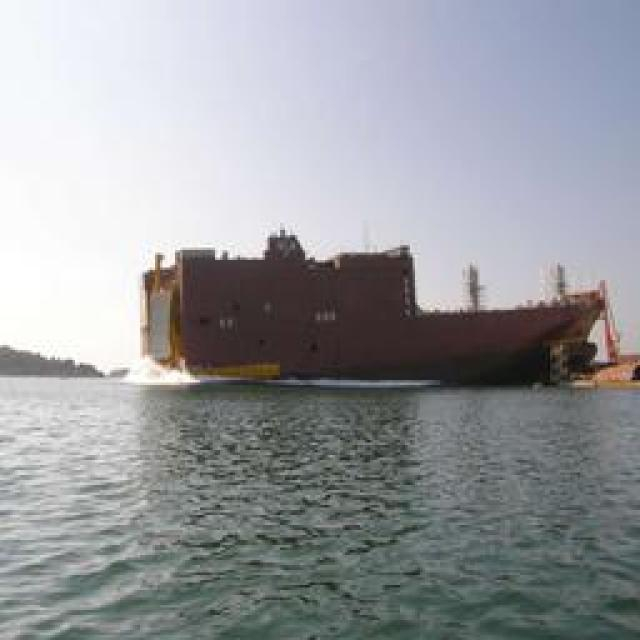CIV_Ship: (128, 238, 606, 388)
